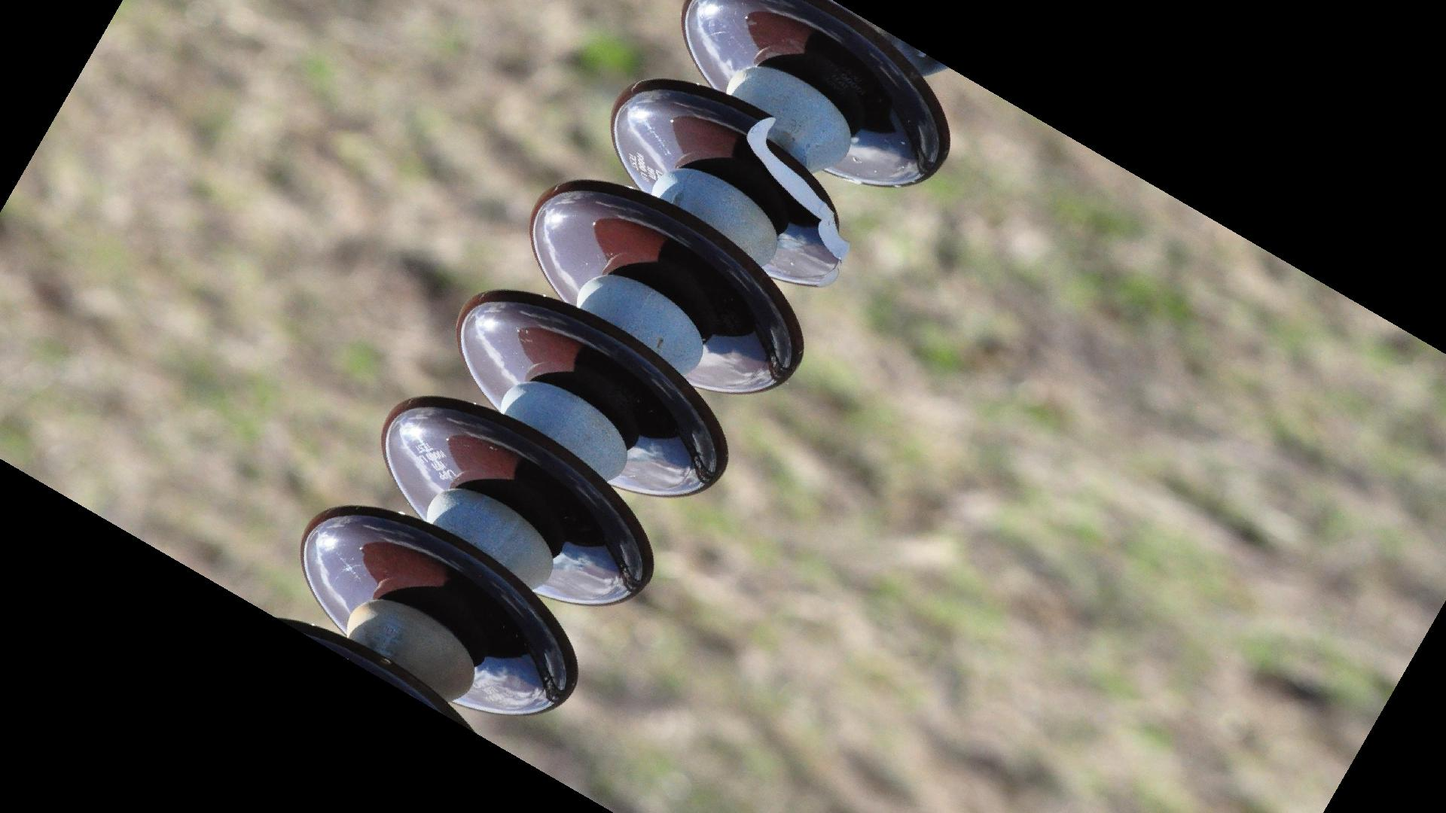insulator: (290, 1, 955, 725)
insulator_breakage: (734, 98, 864, 279)
